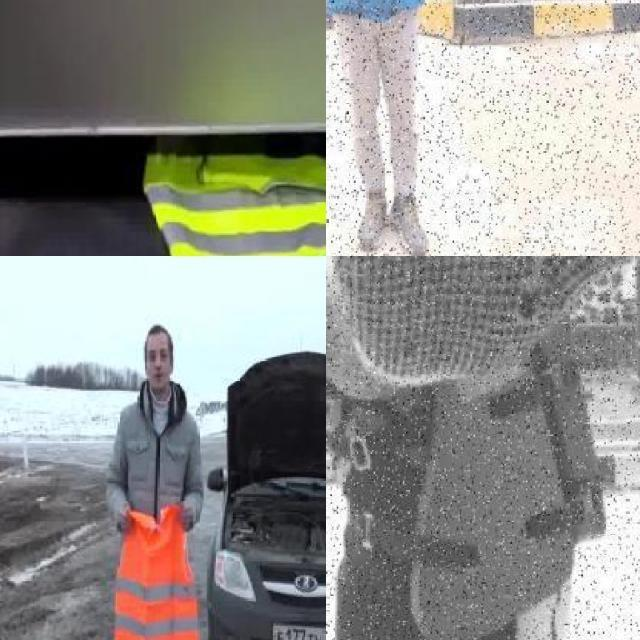apron: (326, 256, 640, 397)
